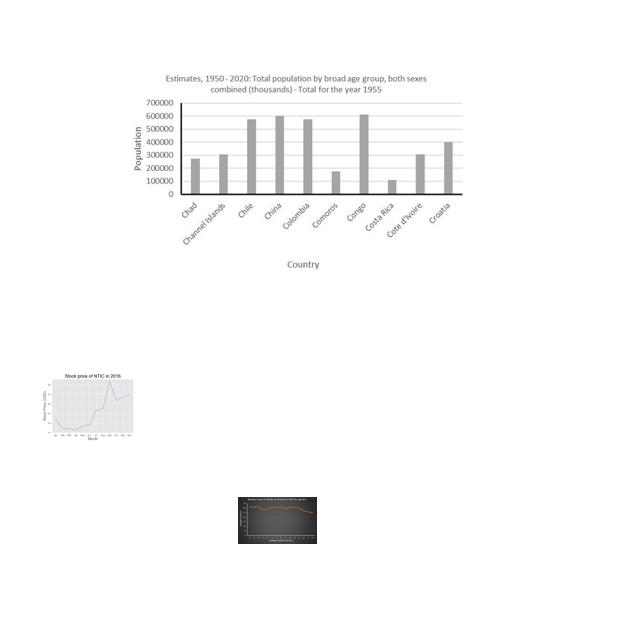Graph: (126, 69, 468, 273), (39, 366, 144, 445), (238, 497, 317, 544)
